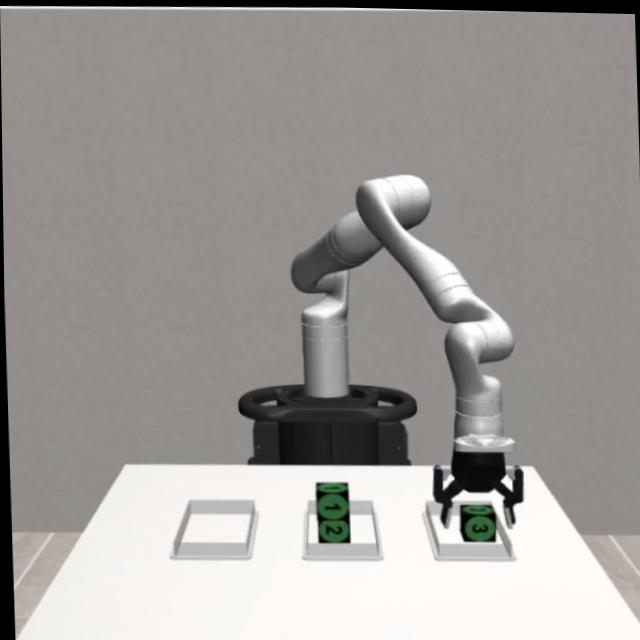cube1: (312, 480, 350, 519)
cube2: (315, 510, 349, 542)
cube3: (458, 503, 495, 540)
